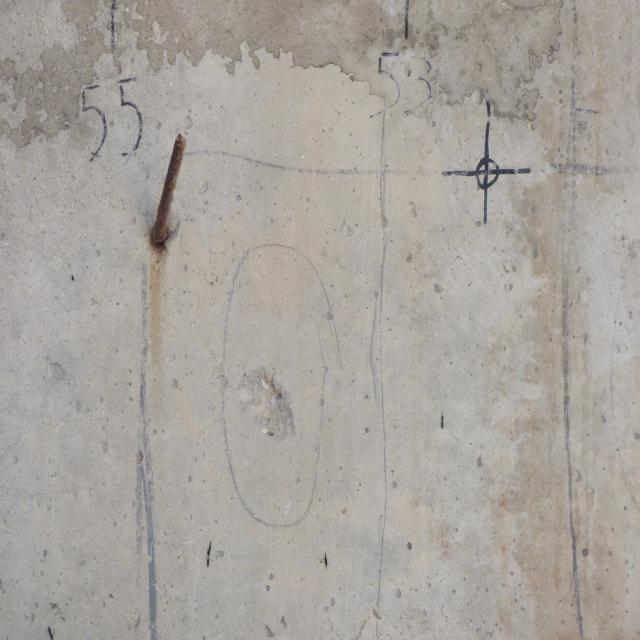corrosion: (125, 129, 205, 402)
